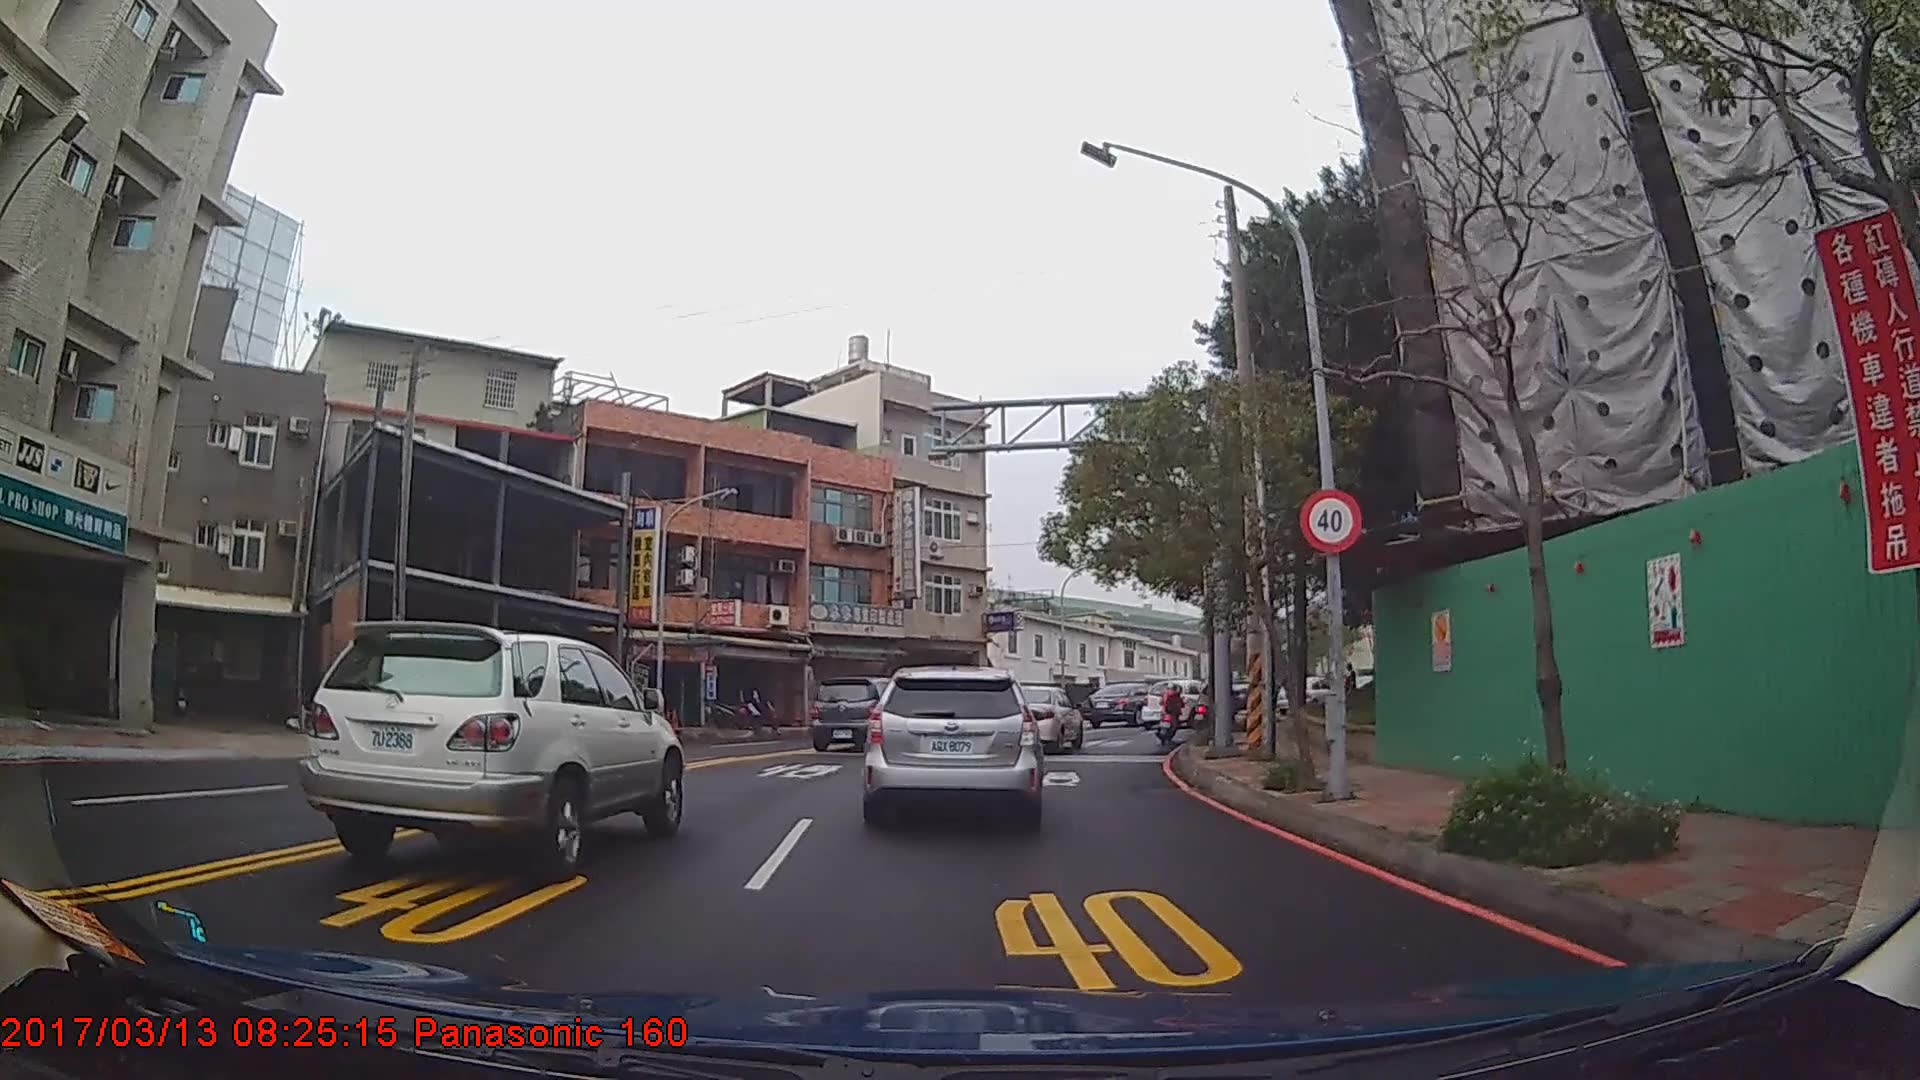rider: (1157, 683, 1185, 741), (1195, 680, 1220, 732)
vehicle: (294, 617, 684, 876), (861, 665, 1044, 833), (810, 675, 914, 753), (1005, 679, 1084, 751), (1084, 680, 1159, 726)
